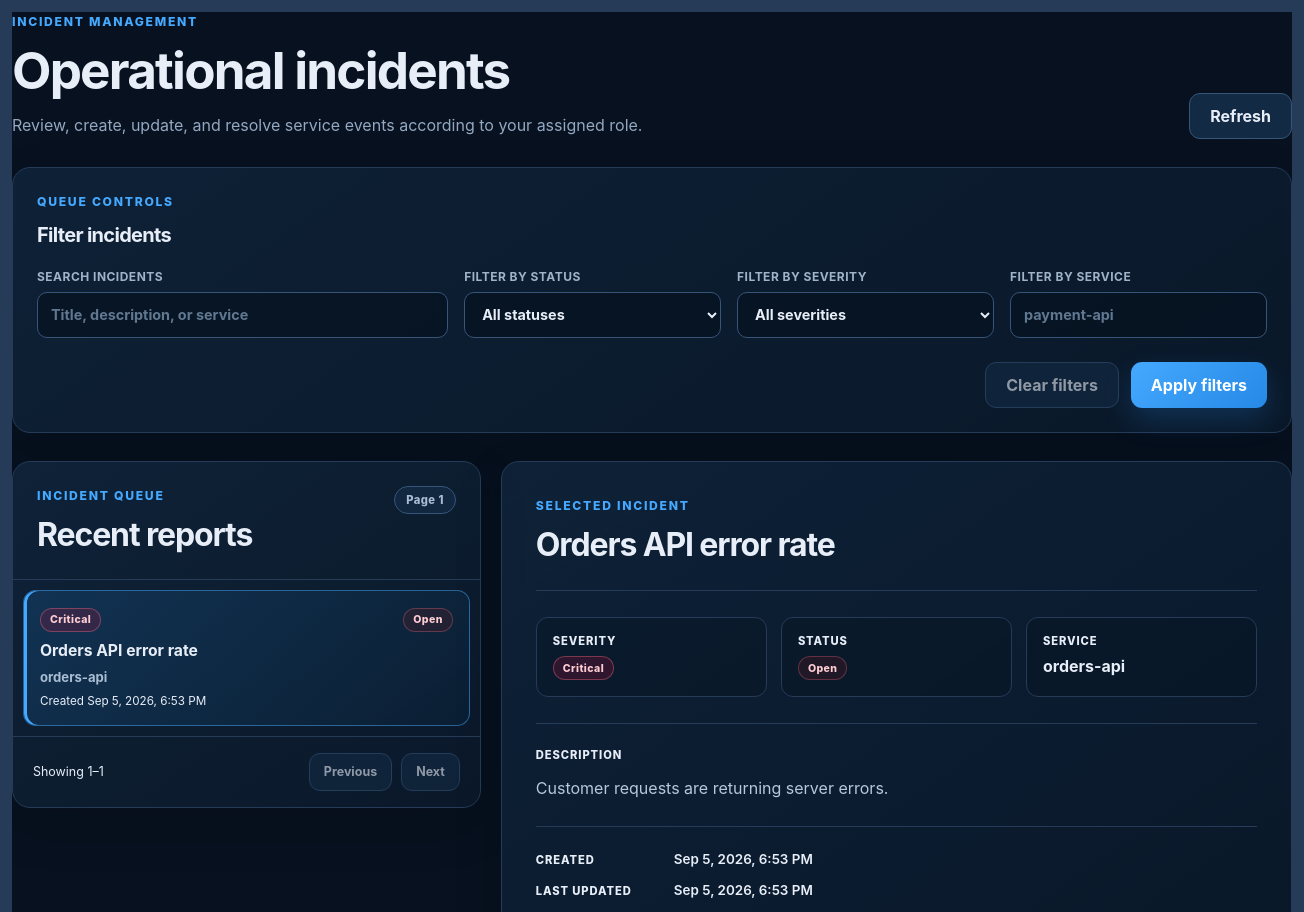
Test: IncidentsPage filters › applies and clears Incident filters
In the search field labelled "Search incidents": (243,315) [37,292,448,338], type "payment latency"
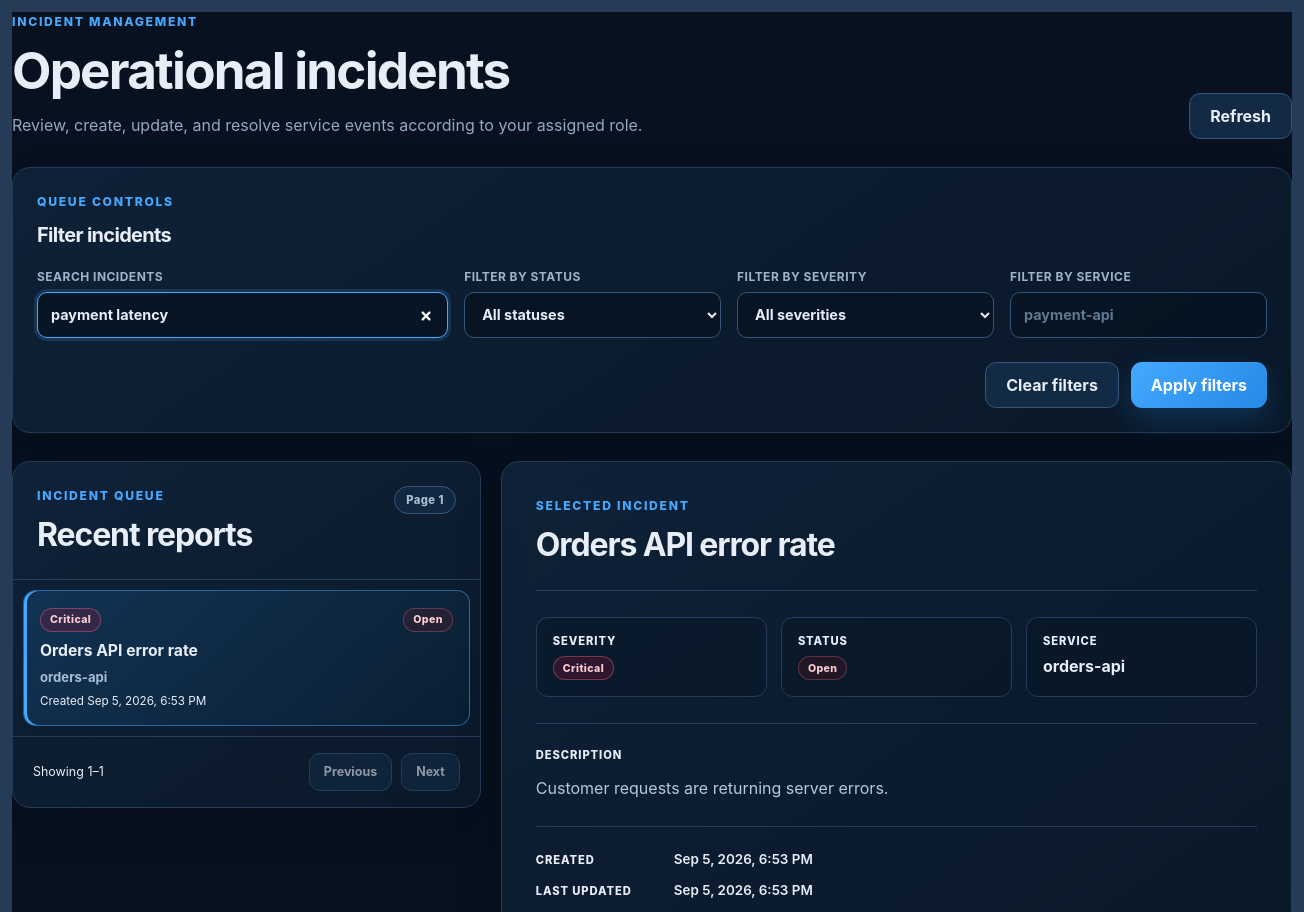
Select "Investigating" in the dropdown labelled "Filter by status": (593,315) [464,292,721,338]
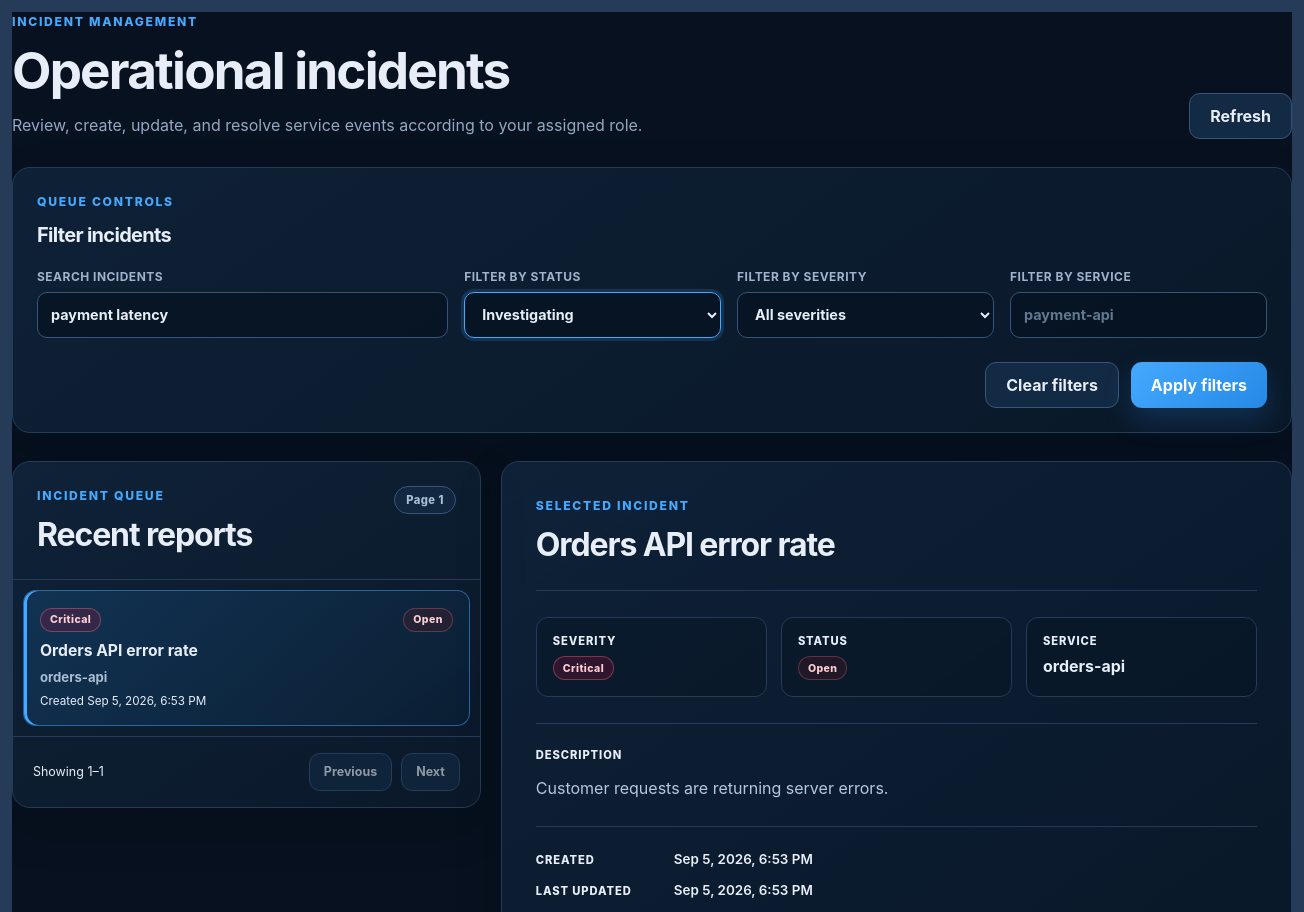
Select "High" in the dropdown labelled "Filter by severity": (866,315) [737,292,994,338]
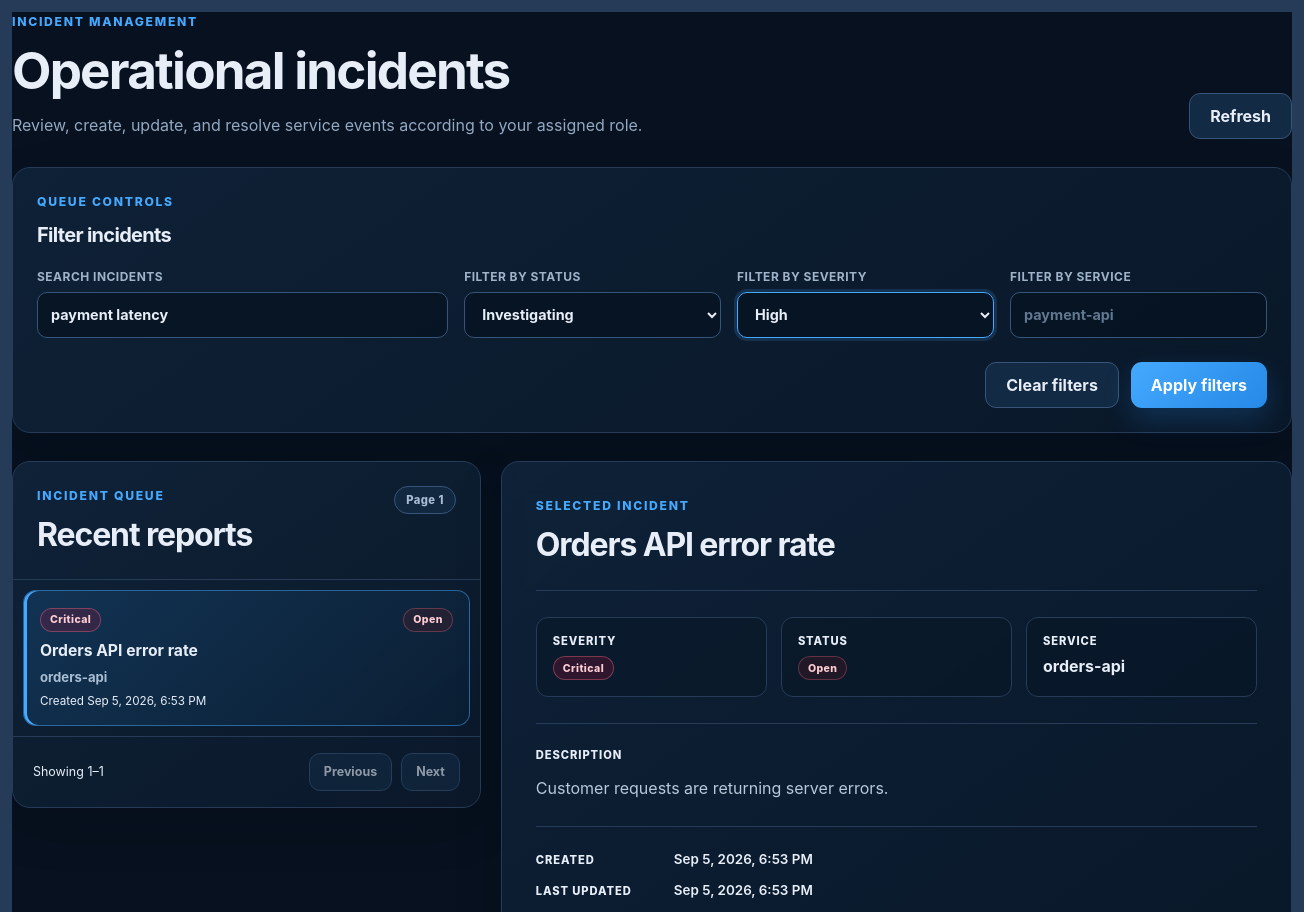
In the field labelled "Filter by service": (1138,315) [1010,292,1267,338], type "payments-api"
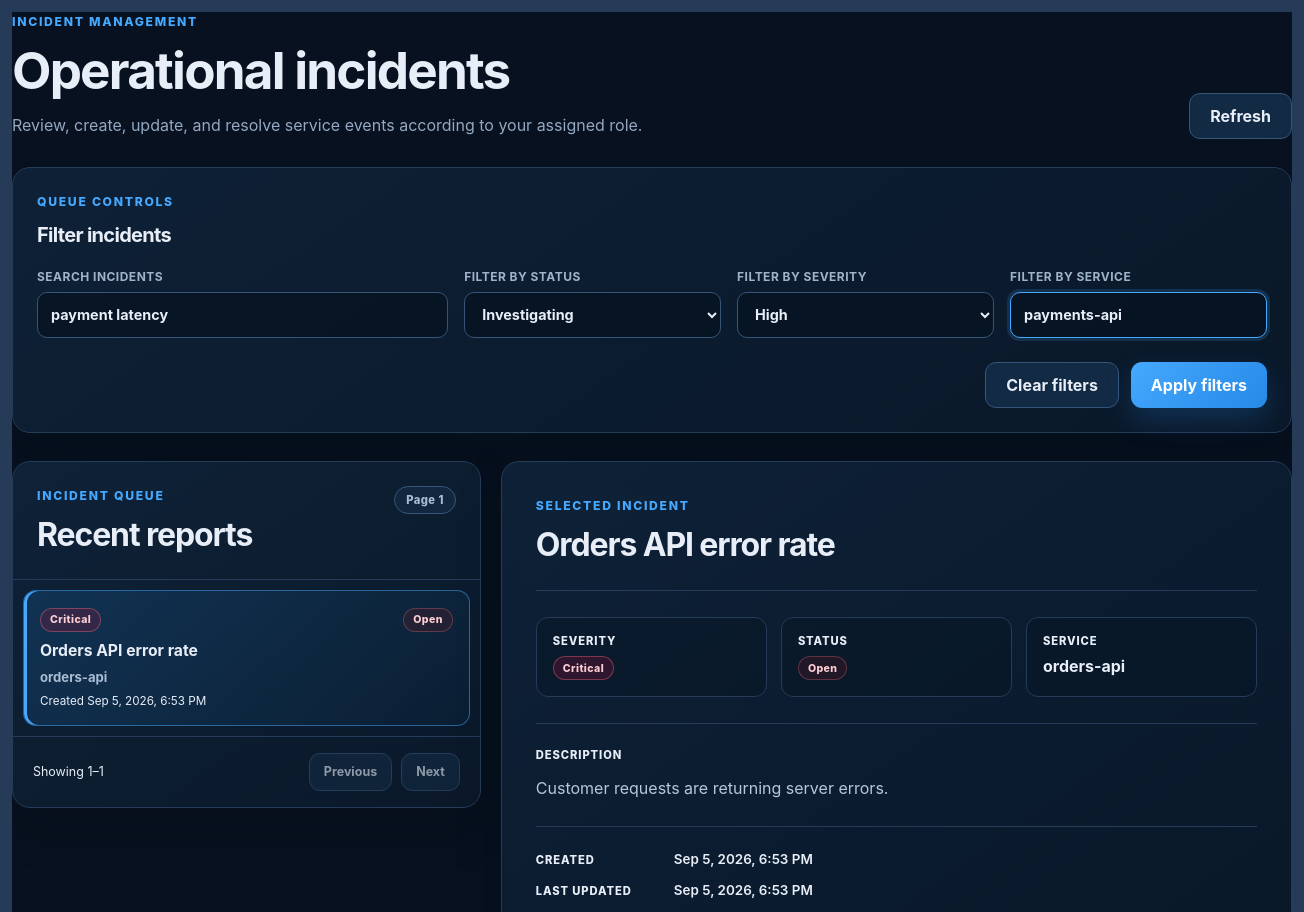
Click the button "Apply filters": (1199,385) [1131,362,1267,408]
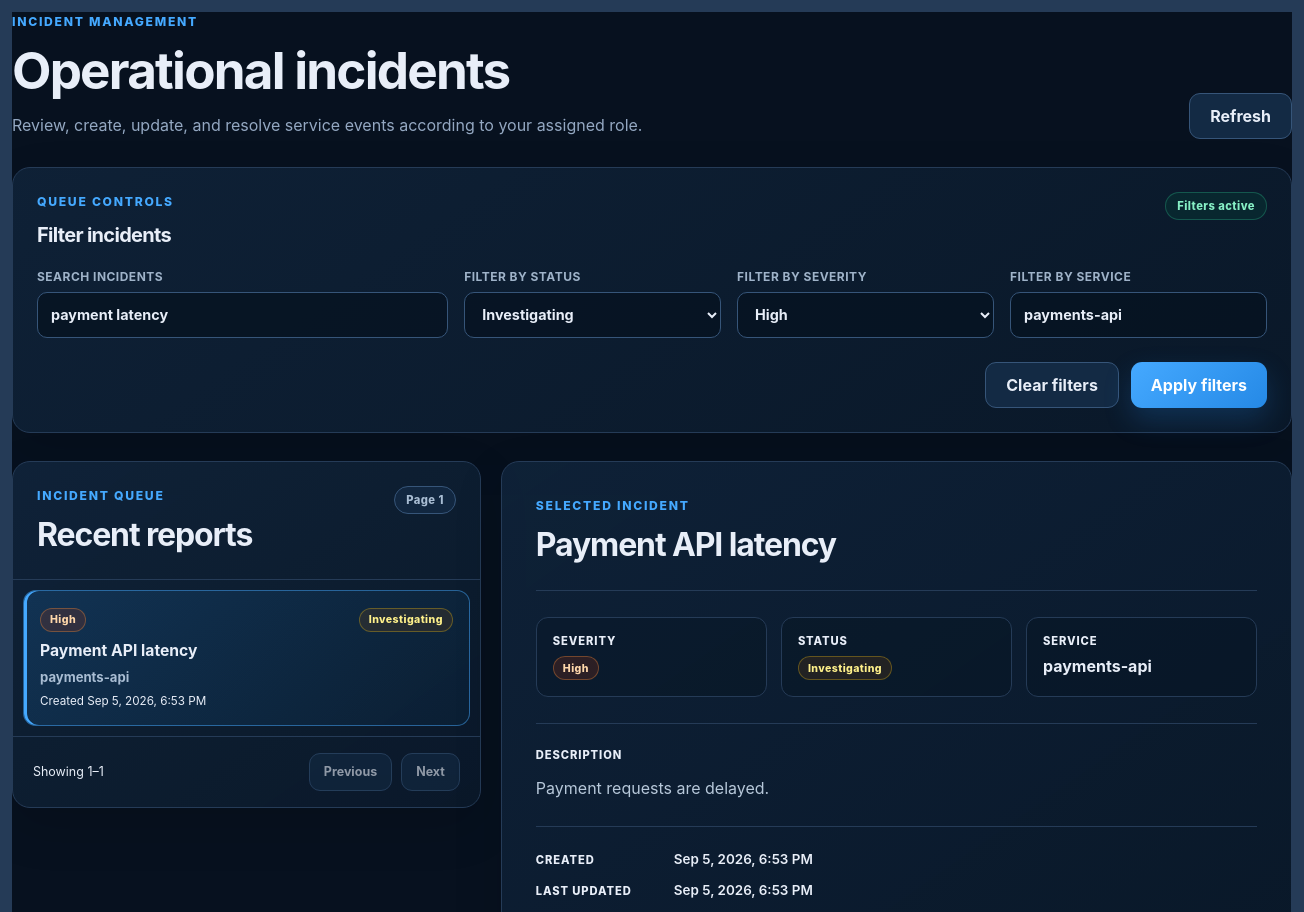
Expected: the text "Payment API latency" is shown 2 times, [40,641,197,660]; [536,526,836,565]
Now the text "payments-api" below "Recent reports" is shown, box [40,669,129,685]
Click the button "Clear filters": (1052,385) [985,362,1119,408]
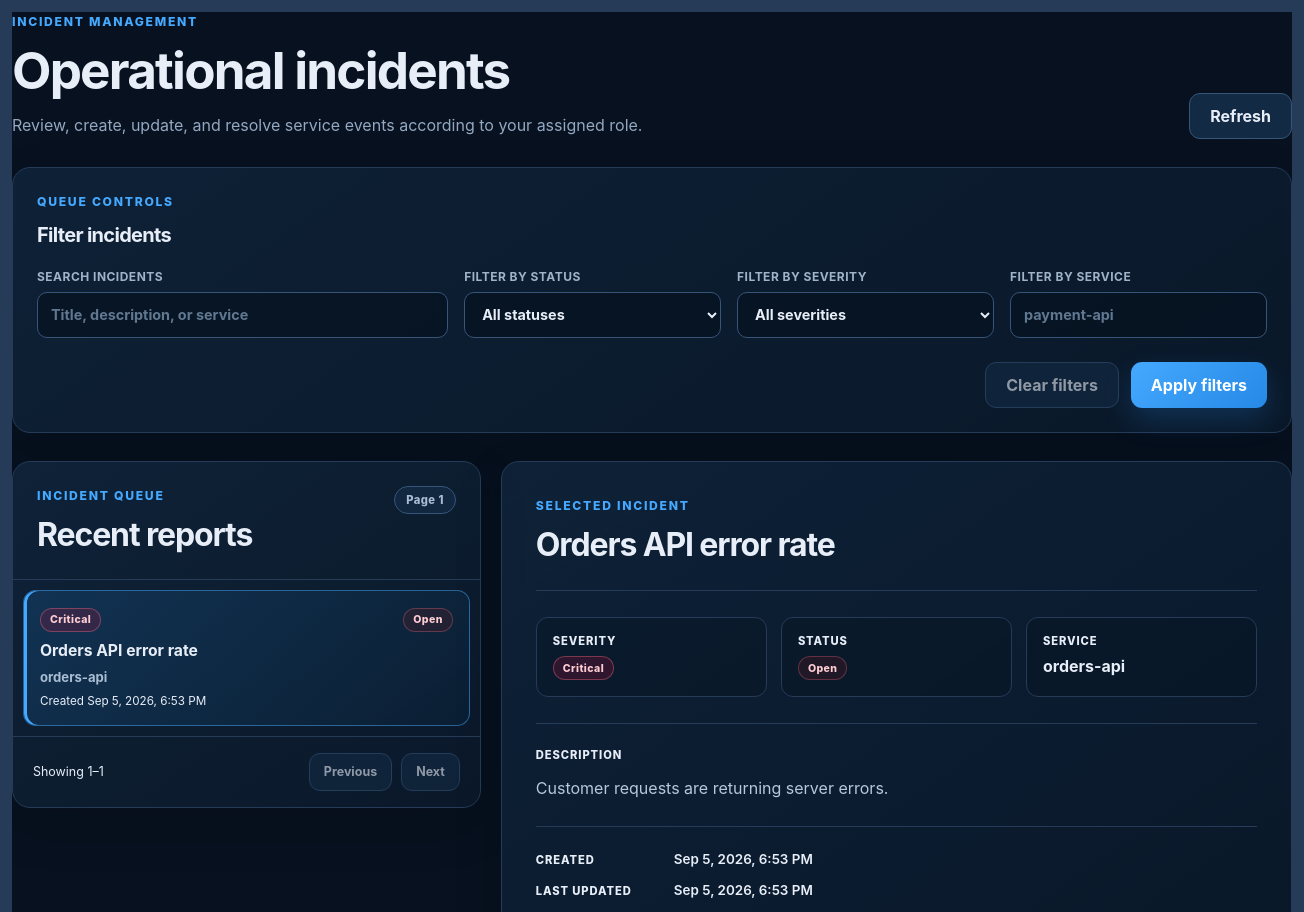
Expected: the text "Orders API error rate" is shown 2 times, [40,641,198,660]; [536,526,835,565]
Now the search field labelled "Search incidents" is empty, box [37,292,448,338]
Now the field labelled "Filter by service" is empty, box [1010,292,1267,338]
